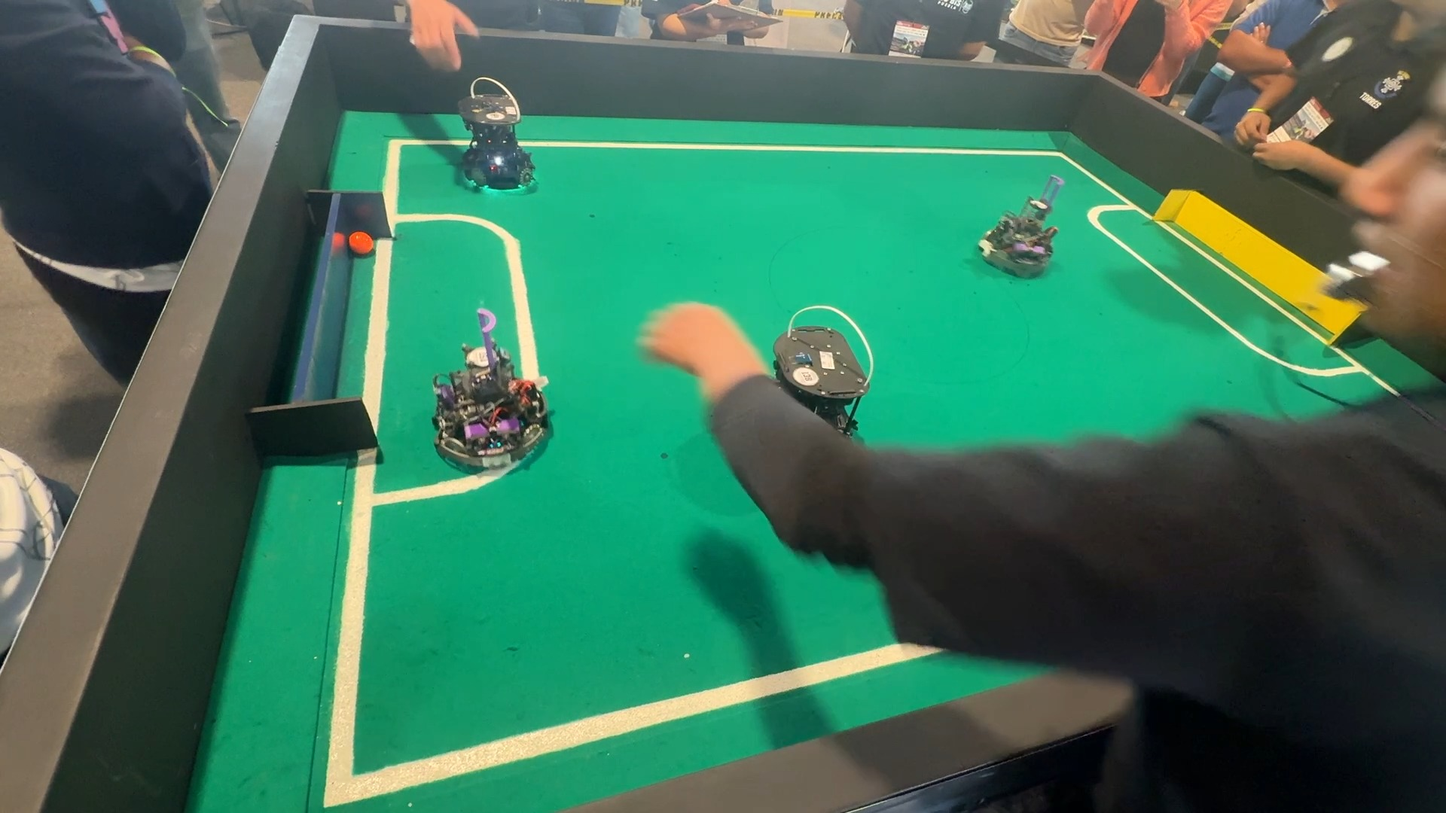Robot: (430, 306, 563, 484), (771, 326, 887, 451), (449, 78, 552, 207), (966, 173, 1073, 286)
pelota: (351, 231, 386, 271)
